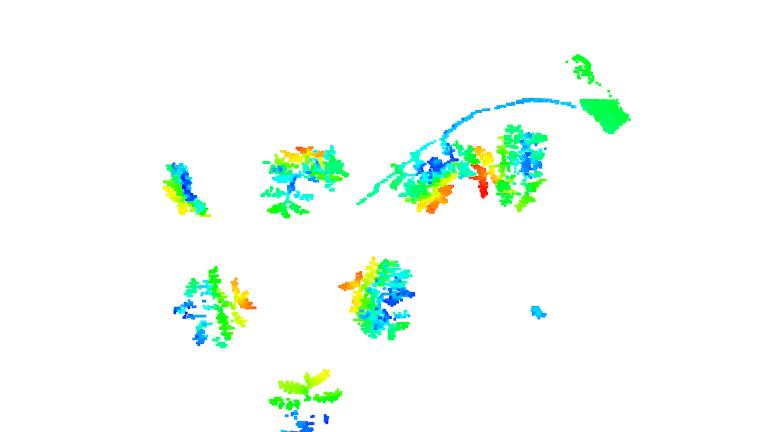chickpea: (172, 265, 258, 351), (468, 121, 549, 212), (387, 136, 478, 216), (337, 256, 416, 343), (264, 143, 350, 221), (266, 367, 344, 432), (157, 160, 214, 220)
